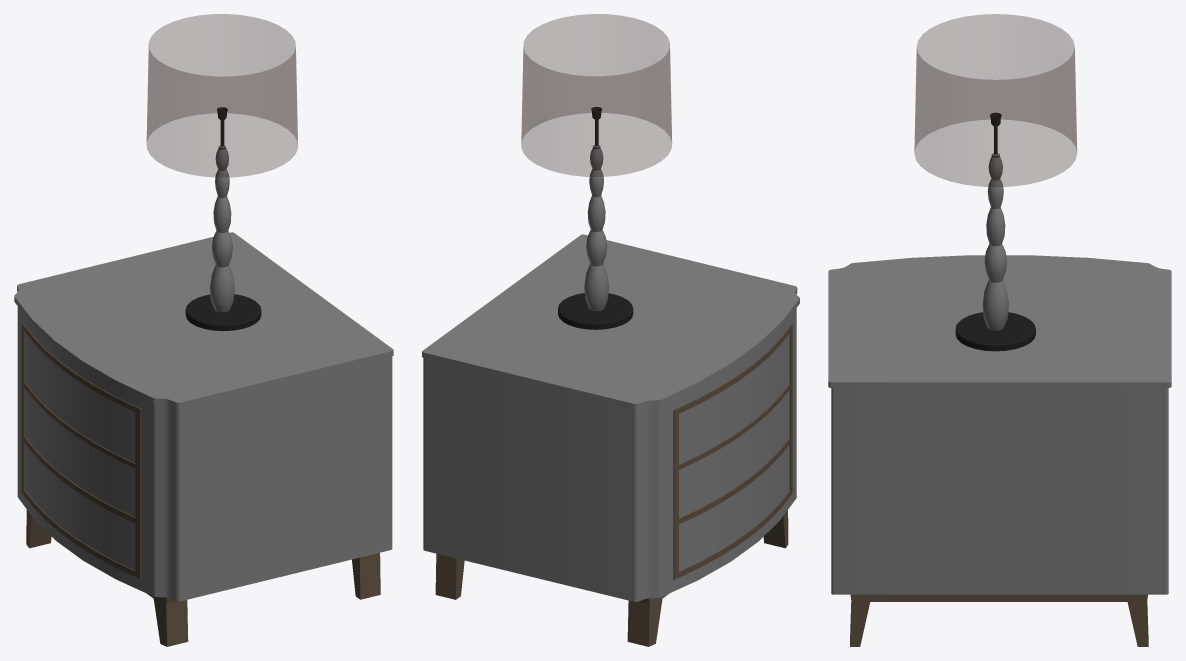
3 views of the same model, side by side, from view 1: azimuth 30°, elevation 25°; view 2: azimuth 150°, elevation 25°; view 3: azimuth 270°, elevation 25° (orthographic). The views are drawn at different scales.
Visible parts, largest first — view 1: Rectangle81, Rectangle79, BB BBS04TL03, Rectangle80, BB BBS04TL02, Box1355; view 2: Rectangle81, Rectangle79, BB BBS04TL03, BB BBS04TL02, Rectangle80, Box1355; view 3: Rectangle81, Rectangle79, BB BBS04TL03, BB BBS04TL02, Box1355.
Boxes of the visible parts, x1,y1,x2,y2 form: Rectangle81: [17, 306, 392, 601]; Rectangle79: [14, 232, 393, 407]; BB BBS04TL03: [146, 14, 297, 177]; Rectangle80: [21, 322, 141, 578]; BB BBS04TL02: [185, 145, 261, 331]; Box1355: [26, 509, 380, 646]; Rectangle81: [423, 308, 796, 601]; Rectangle79: [422, 234, 799, 409]; BB BBS04TL03: [521, 14, 671, 176]; BB BBS04TL02: [558, 145, 633, 329]; Rectangle80: [673, 324, 792, 579]; Box1355: [435, 510, 788, 646]; Rectangle81: [831, 388, 1168, 594]; Rectangle79: [828, 255, 1171, 387]; BB BBS04TL03: [914, 14, 1076, 186]; BB BBS04TL02: [955, 153, 1035, 351]; Box1355: [850, 594, 1148, 646].
Size of the model in its own units: 505 by 1025 by 576.
